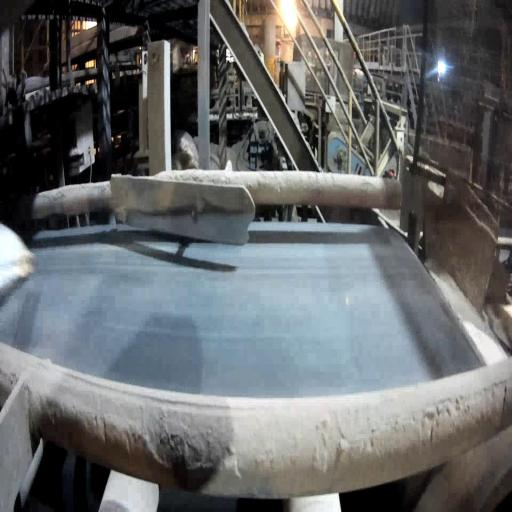c-belt-sack-count: (0, 224, 33, 299)
